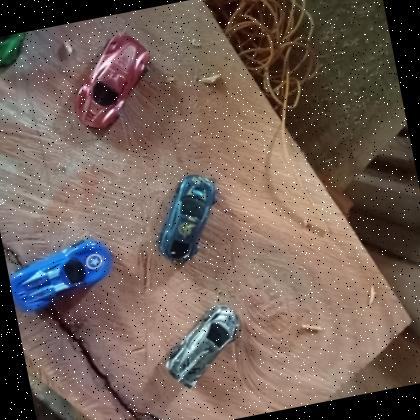Car: (61, 27, 163, 135), (153, 301, 253, 395), (5, 234, 121, 315), (144, 170, 228, 268)
